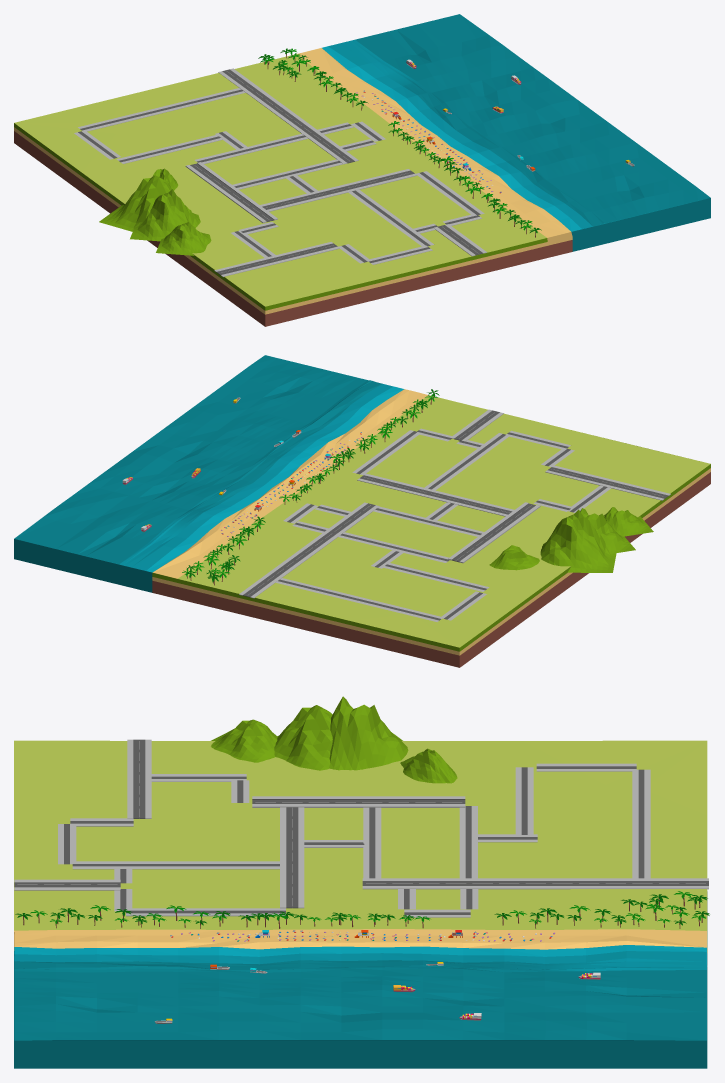
File: MainLayout.fbx
The picture shows the model from 3 angles, top to bottom: view 1: azimuth 30°, elevation 25°; view 2: azimuth 150°, elevation 25°; view 3: azimuth 270°, elevation 25°; orthographic projection. The views are drawn at different scales.
Parts seen in each view (by area): view 1: model_3.001, model_3.002, model_17.001, model_16.003, model_16.004, model_16.002, model_18.014, model_16.005, model_18.002, model_1.001, model_18.008, model_18.009 (+3 smaller); view 2: model_3.001, model_3.002, model_17.001, model_16.003, model_16.004, model_16.002, model_18.014, model_16.005, model_18.002, model_18.008, model_1.001, model_18.009 (+3 smaller); view 3: model_3.001, model_3.002, model_16.003, model_17.001, model_16.002, model_16.004, model_18.014, model_16.005, model_18.002, model_1.001, model_18.008, model_18.009 (+7 smaller).
Part boxes in pixels (left/top/right/bottom): model_3.001: left=14, top=14, right=710, bottom=326; model_3.002: left=99, top=168, right=211, bottom=255; model_17.001: left=258, top=48, right=541, bottom=237; model_16.003: left=218, top=68, right=358, bottom=164; model_16.004: left=260, top=169, right=417, bottom=211; model_16.002: left=185, top=162, right=277, bottom=222; model_18.014: left=78, top=88, right=245, bottom=131; model_16.005: left=214, top=242, right=339, bottom=276; model_18.002: left=348, top=189, right=434, bottom=247; model_1.001: left=356, top=59, right=634, bottom=193; model_18.008: left=194, top=133, right=308, bottom=163; model_18.009: left=232, top=159, right=343, bottom=189; model_3.001: left=14, top=355, right=710, bottom=667; model_3.002: left=489, top=507, right=653, bottom=572; model_17.001: left=182, top=389, right=439, bottom=585; model_16.003: left=239, top=502, right=379, bottom=598; model_16.004: left=357, top=473, right=514, bottom=516; model_16.002: left=448, top=502, right=540, bottom=563; model_18.014: left=276, top=578, right=443, bottom=621; model_16.005: left=545, top=465, right=670, bottom=500; model_18.002: left=424, top=433, right=509, bottom=490; model_18.008: left=338, top=532, right=449, bottom=562; model_1.001: left=122, top=397, right=362, bottom=536; model_18.009: left=373, top=506, right=483, bottom=536; model_3.001: left=14, top=740, right=707, bottom=1068; model_3.002: left=211, top=696, right=457, bottom=783; model_16.003: left=362, top=878, right=708, bottom=889; model_17.001: left=15, top=891, right=709, bottom=928; model_16.002: left=252, top=796, right=465, bottom=807; model_16.004: left=280, top=807, right=304, bottom=908; model_18.014: left=632, top=769, right=650, bottom=878; model_16.005: left=127, top=739, right=151, bottom=818; model_18.002: left=72, top=861, right=279, bottom=869; model_1.001: left=154, top=930, right=600, bottom=1023; model_18.008: left=459, top=806, right=477, bottom=878; model_18.009: left=363, top=807, right=381, bottom=878.
Bounding box in the file's own units: 119001 × 13898 × 108440.
Materials: 1 (1 with a texture image).
